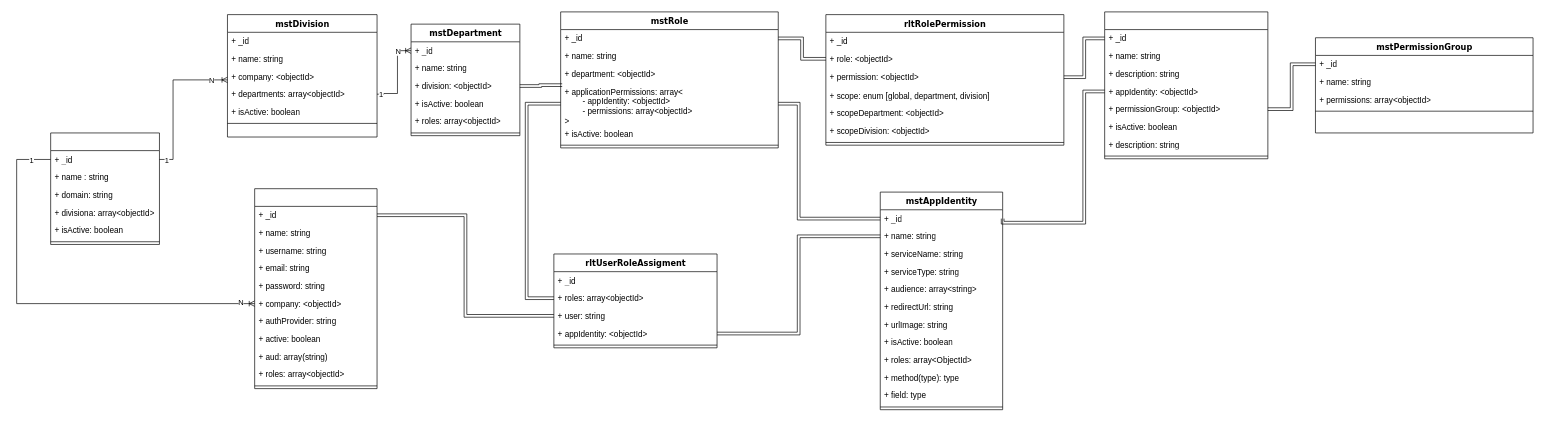
The diagram is 1545 pixels wide and 422 high, and some of its shapes have lost their labels. The shapes that lost their labels are listed below. From the top down, each one's box as (x1, y1, x2, y2) in pixels, then its label:
(1104, 11, 1268, 159): mstPermission
(50, 132, 159, 244): mstCompany
(254, 188, 377, 389): mstUser
